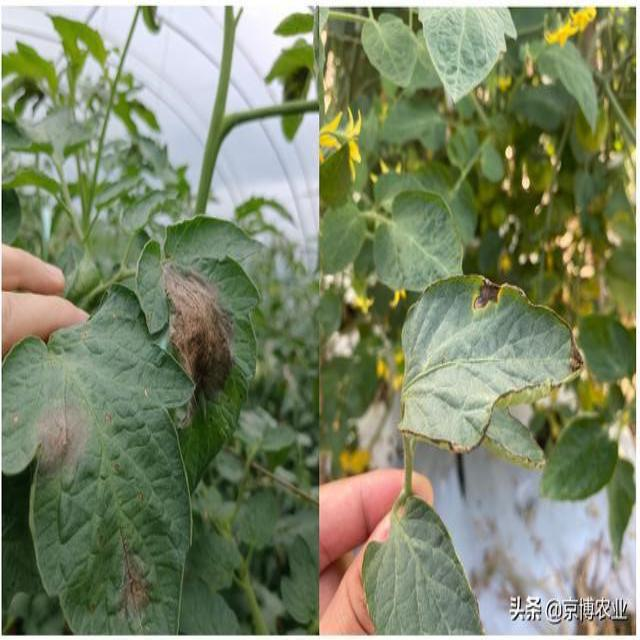Late_blight: (160, 258, 236, 426), (27, 392, 94, 489), (113, 524, 155, 620), (562, 317, 586, 373), (471, 272, 503, 313)
